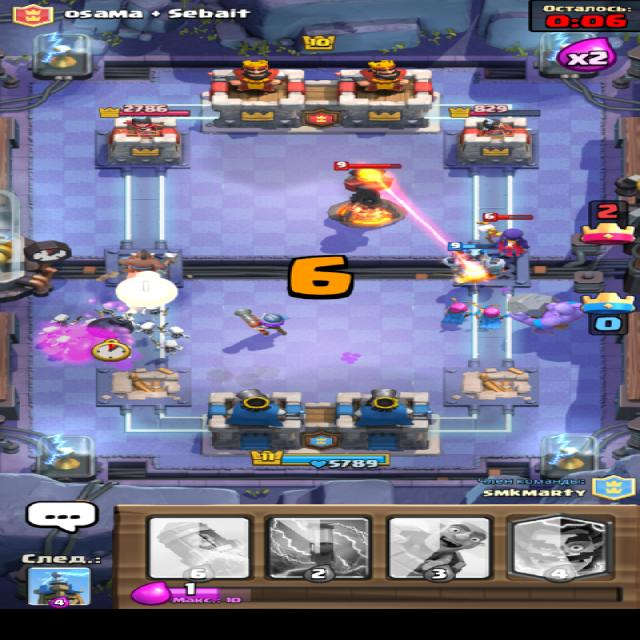Enemy-GiantBomb: (88, 336, 132, 362)
Enemy-InfernoTower: (326, 160, 406, 230)
Enemy-Witch: (475, 211, 533, 257)
Player-Archer: (437, 296, 472, 329), (471, 302, 509, 330)
Player-Bowler: (503, 290, 585, 334)
Player-HogRider: (116, 249, 177, 279)
Player-MegaMinion: (440, 241, 505, 273)
Player-Musketeer: (231, 308, 289, 337)
Player-Skeleton: (147, 337, 184, 356), (133, 321, 167, 336), (163, 324, 192, 340), (47, 312, 80, 326), (82, 307, 102, 323), (121, 313, 135, 324)
